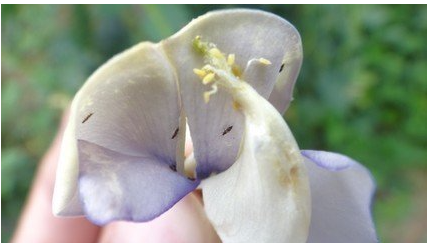thrips: (219, 122, 235, 136), (82, 111, 94, 124), (170, 125, 180, 140), (278, 63, 286, 72)
